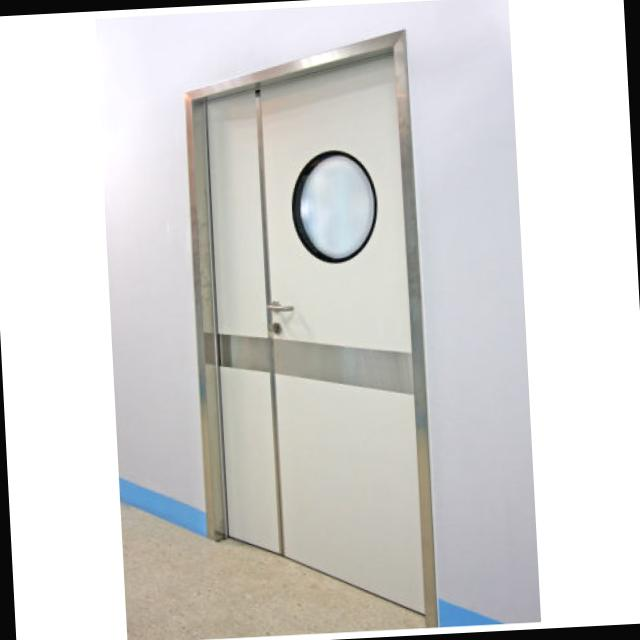door: (182, 31, 441, 629)
